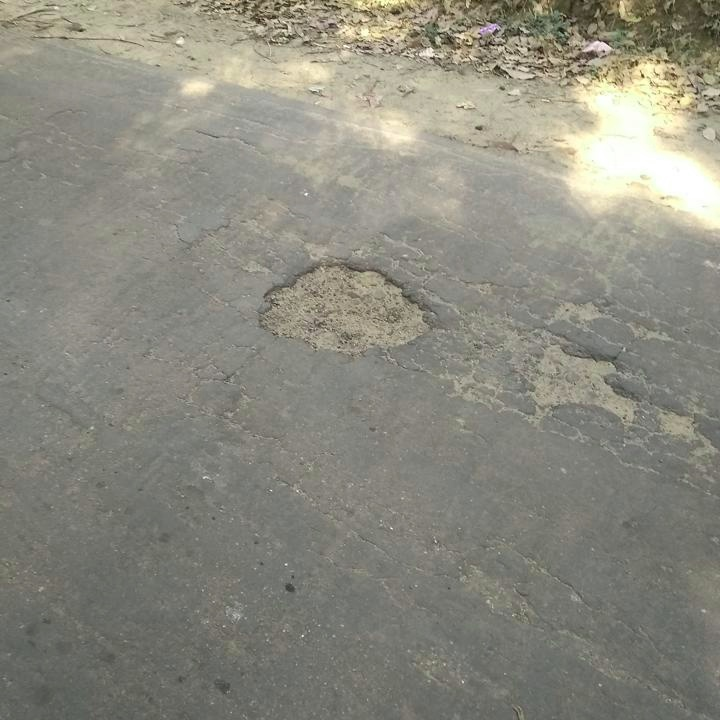pothole: (254, 257, 432, 357), (523, 338, 637, 428)
